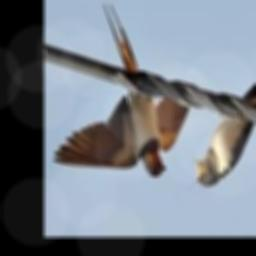Swallow: (53, 4, 191, 177), (194, 70, 256, 185)
